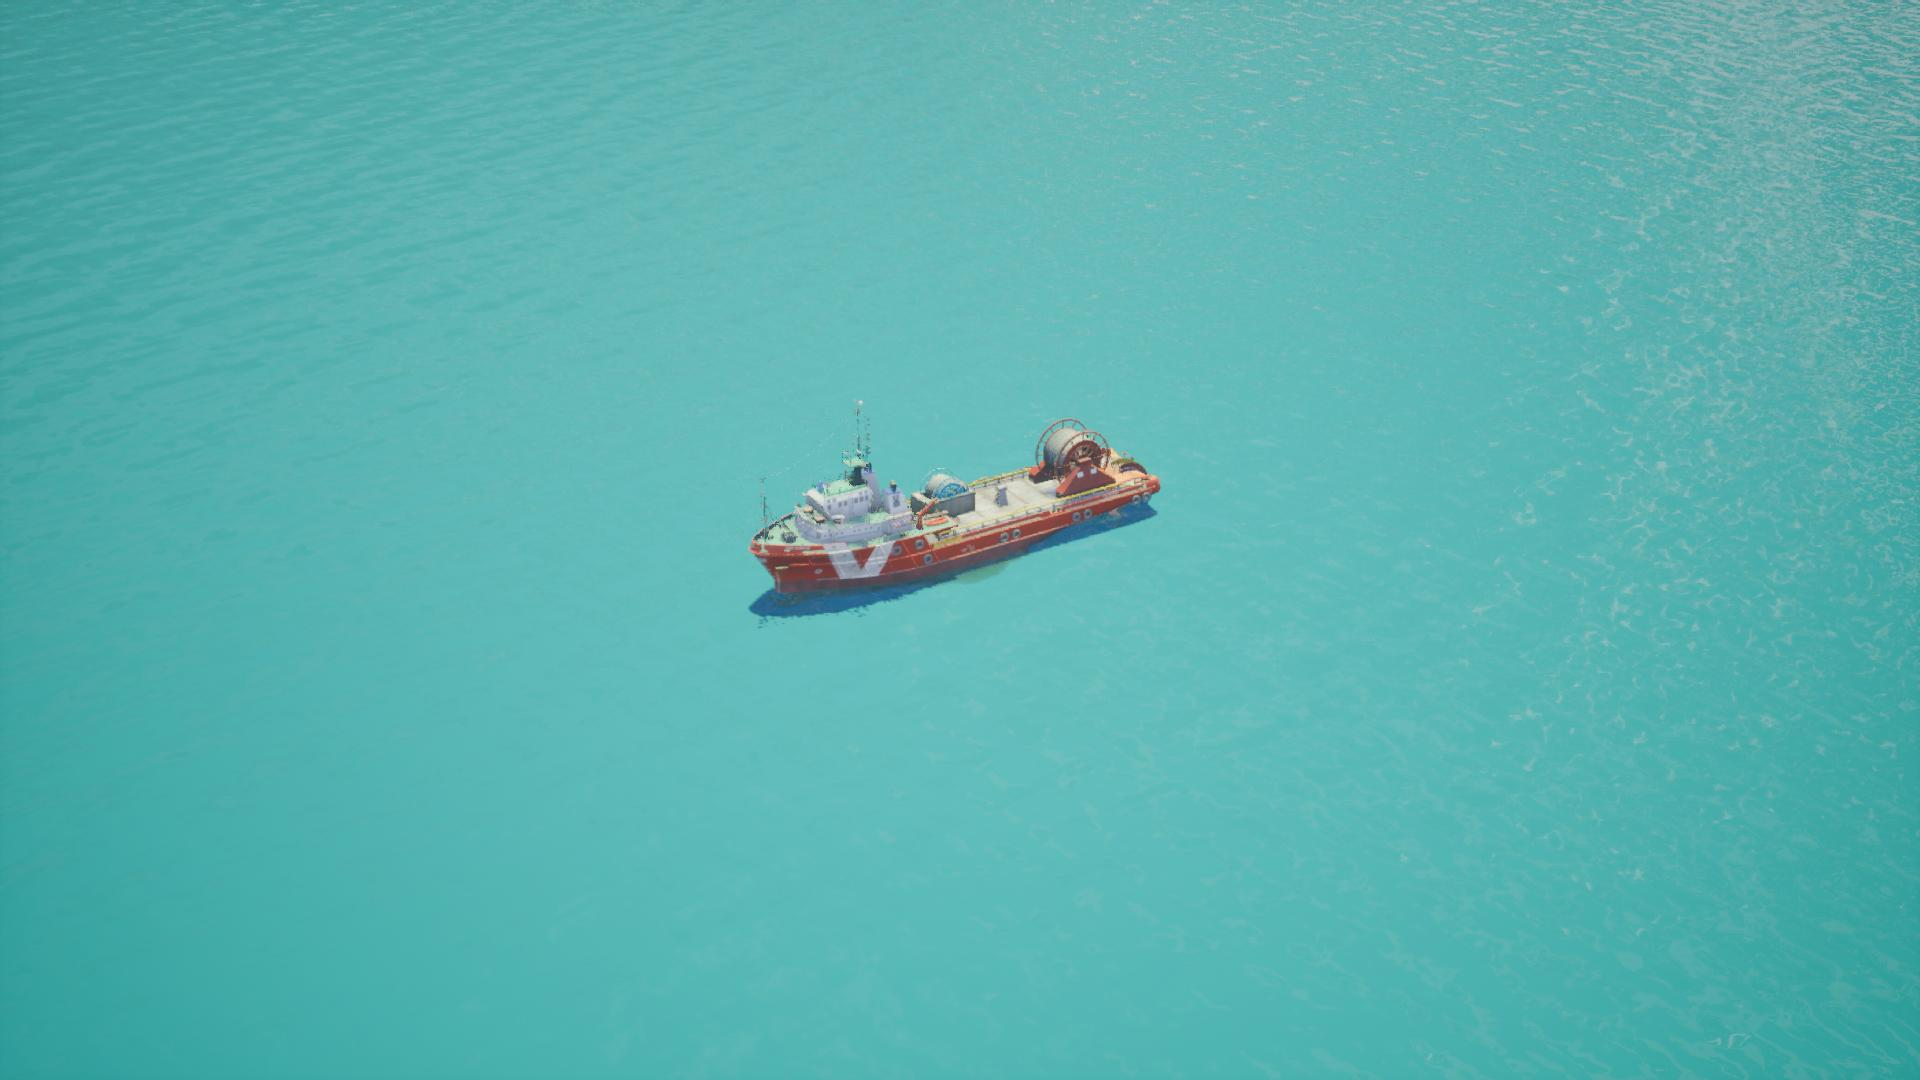Tug Boat: (746, 403, 1163, 620)
